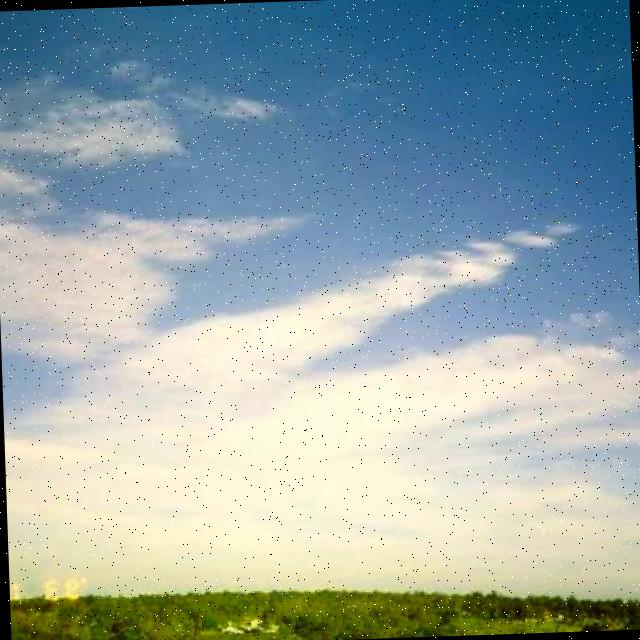Cc: (1, 137, 640, 550)
